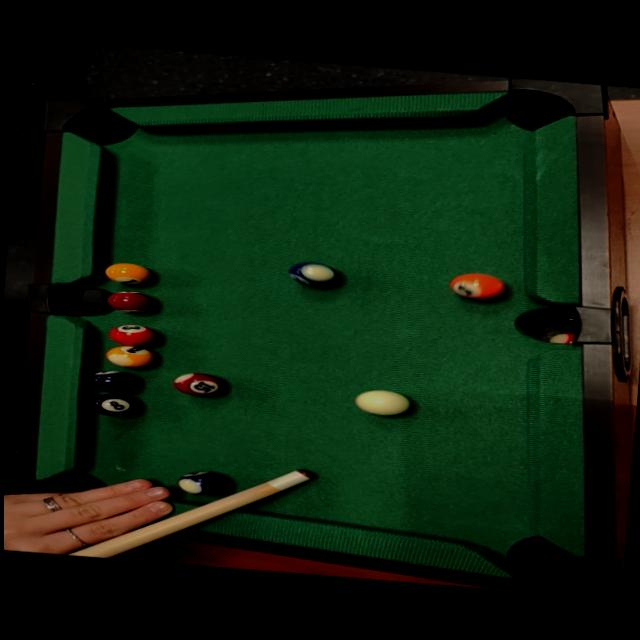cue ball: (349, 386, 414, 419)
other: (442, 267, 511, 303), (172, 465, 237, 498), (79, 364, 144, 397), (285, 257, 348, 290), (102, 341, 166, 371), (99, 257, 158, 288), (86, 390, 147, 419), (105, 320, 168, 347), (171, 370, 229, 399), (105, 288, 159, 315)
